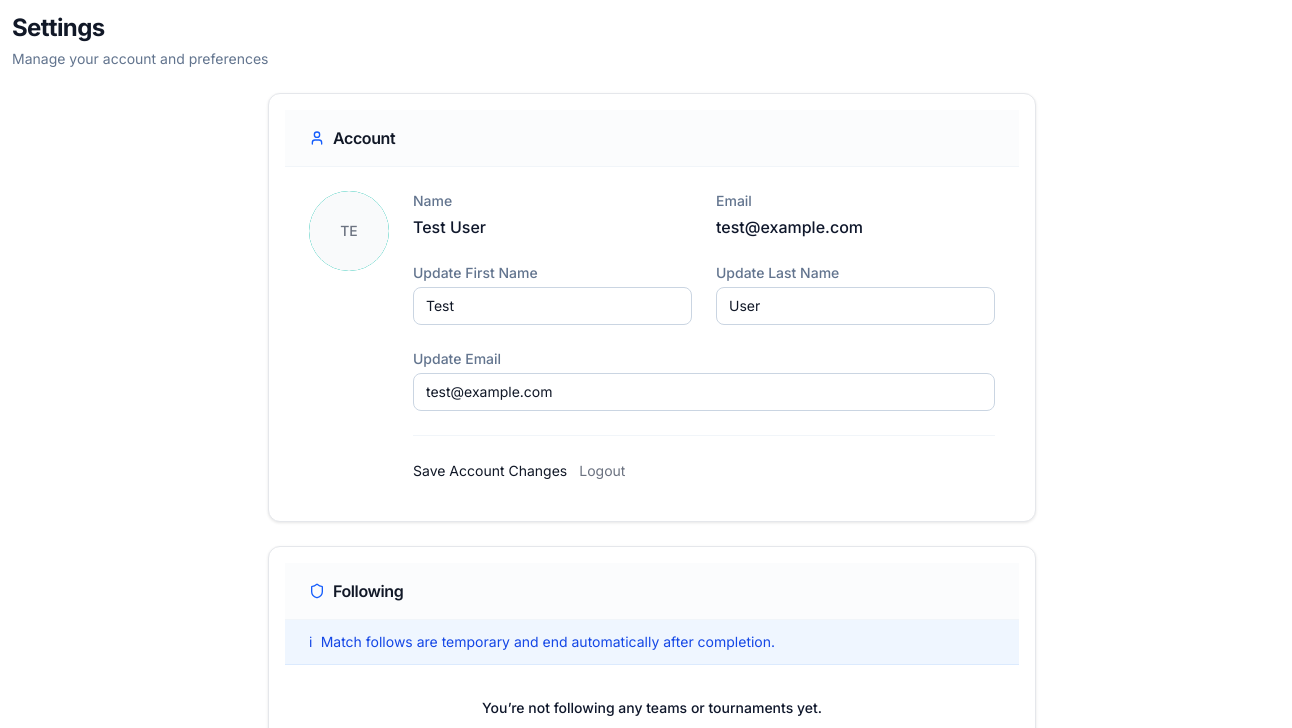
Test case: SettingsScreen › validates email on account save
This screenshot has width=1292, height=728.
Replace the text in the field named "Email" with "invalid" at point(704, 392), box [413, 373, 995, 411]
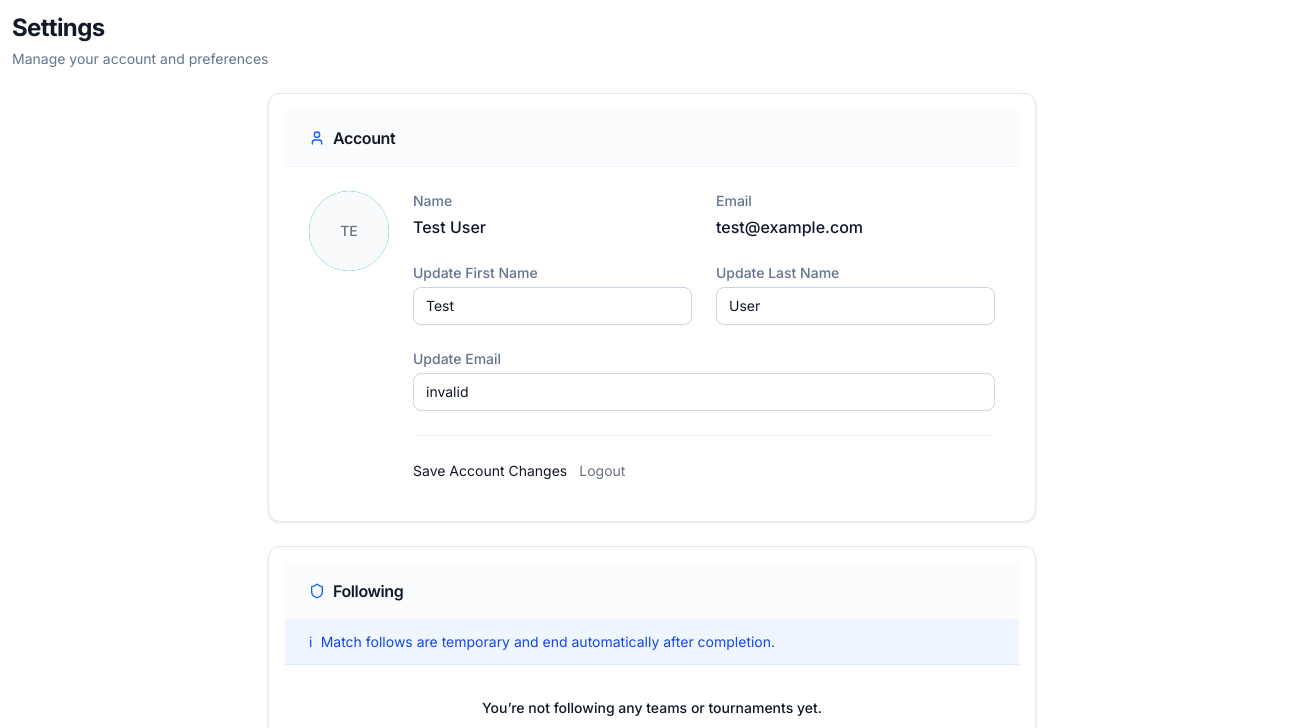
Click the button "Save Account Changes".
click(490, 470)  # box [413, 460, 567, 481]
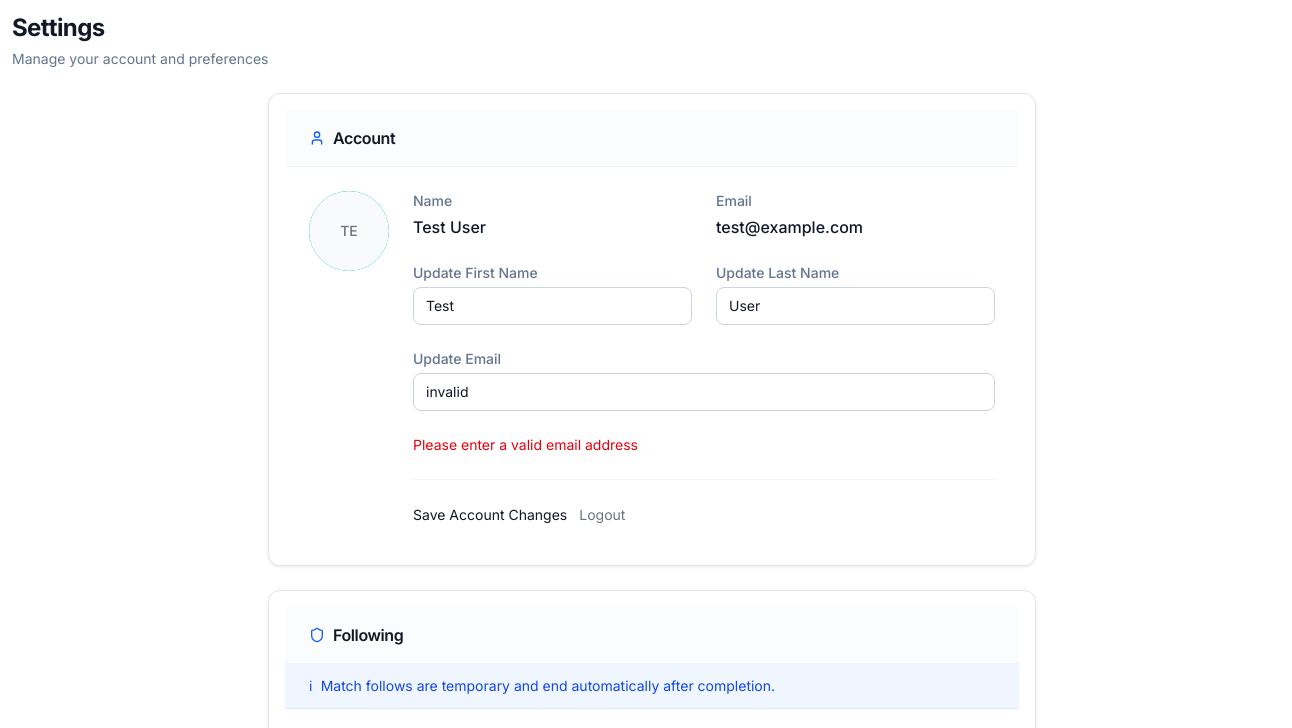
Result: the text "Please enter a valid email address" is shown at [413, 436, 638, 453]
